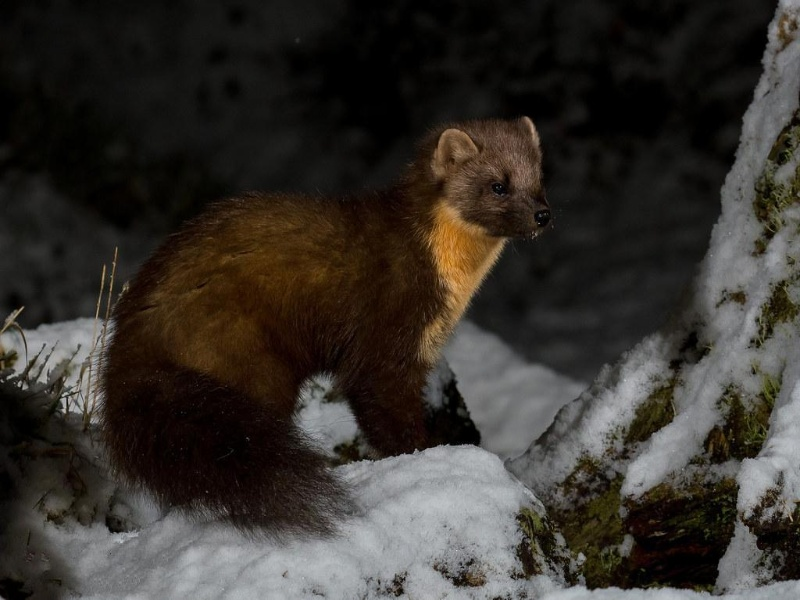minkish: (97, 104, 552, 537)
